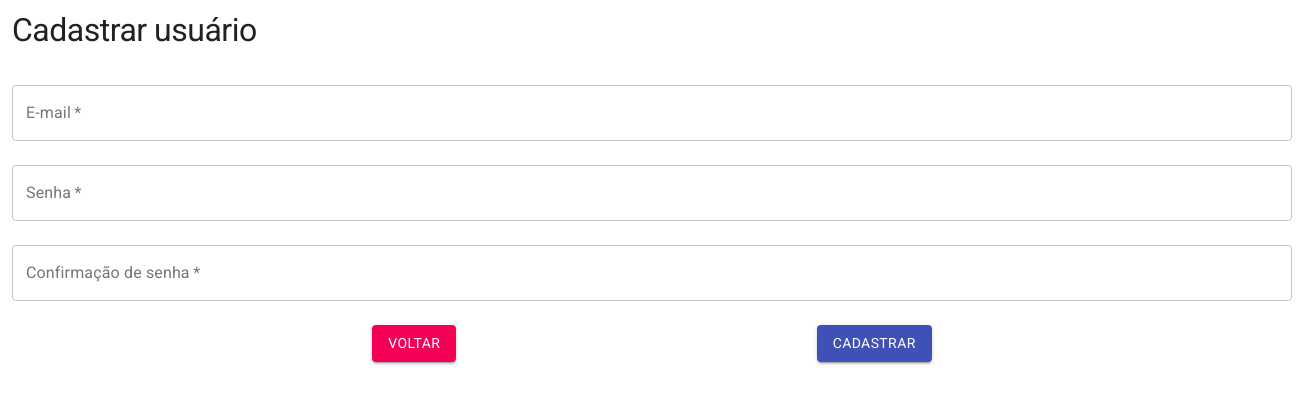
Cadastro Usuario › Deve mostrar erro ao colocar a confirmação de senha inválida na tela de Cadastro
Type "aa" into the password field labelled "Confirmação de senha *" at (652, 273), box [12,245,1292,301]
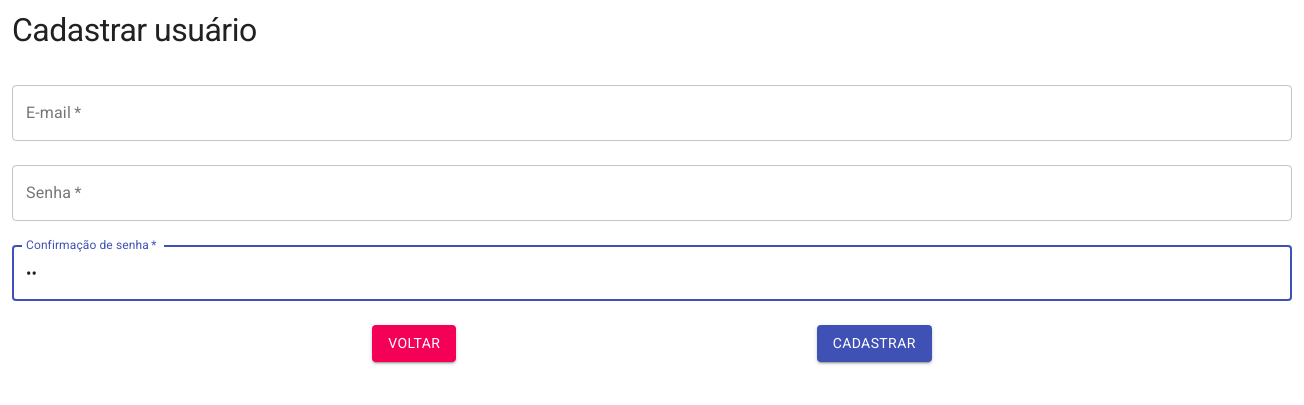
Leave the password field labelled "Confirmação de senha *", box [12,245,1292,301]
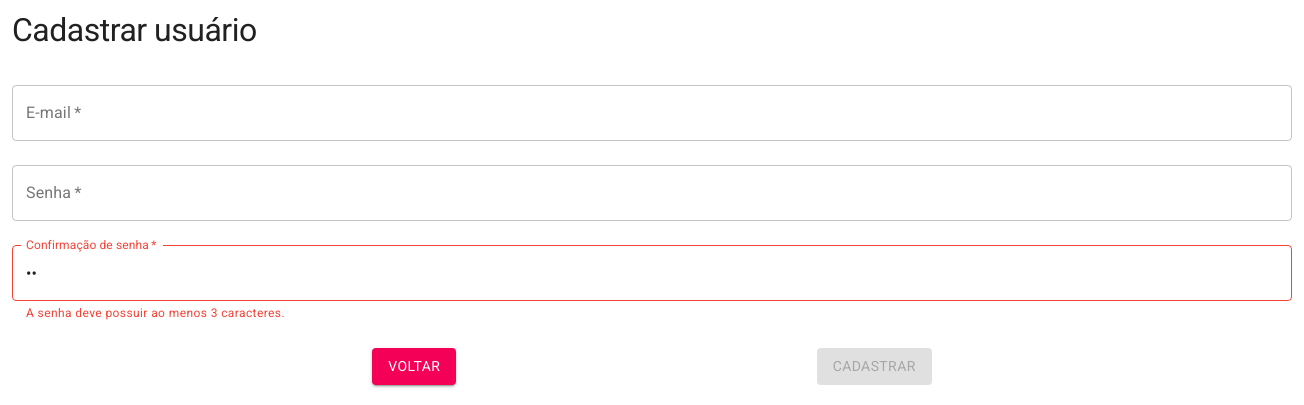
Check: the text "A senha deve possuir ao menos 3 caracteres." is shown, box [26,306,285,320]
